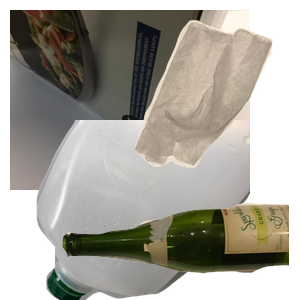cardboard: (10, 10, 250, 190)
glass: (60, 201, 300, 300)
plastic: (34, 120, 274, 300)
trash: (132, 17, 300, 177)
